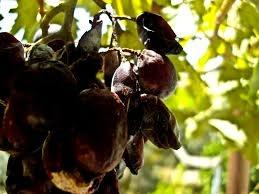Grape Rotten: (0, 10, 183, 194)
